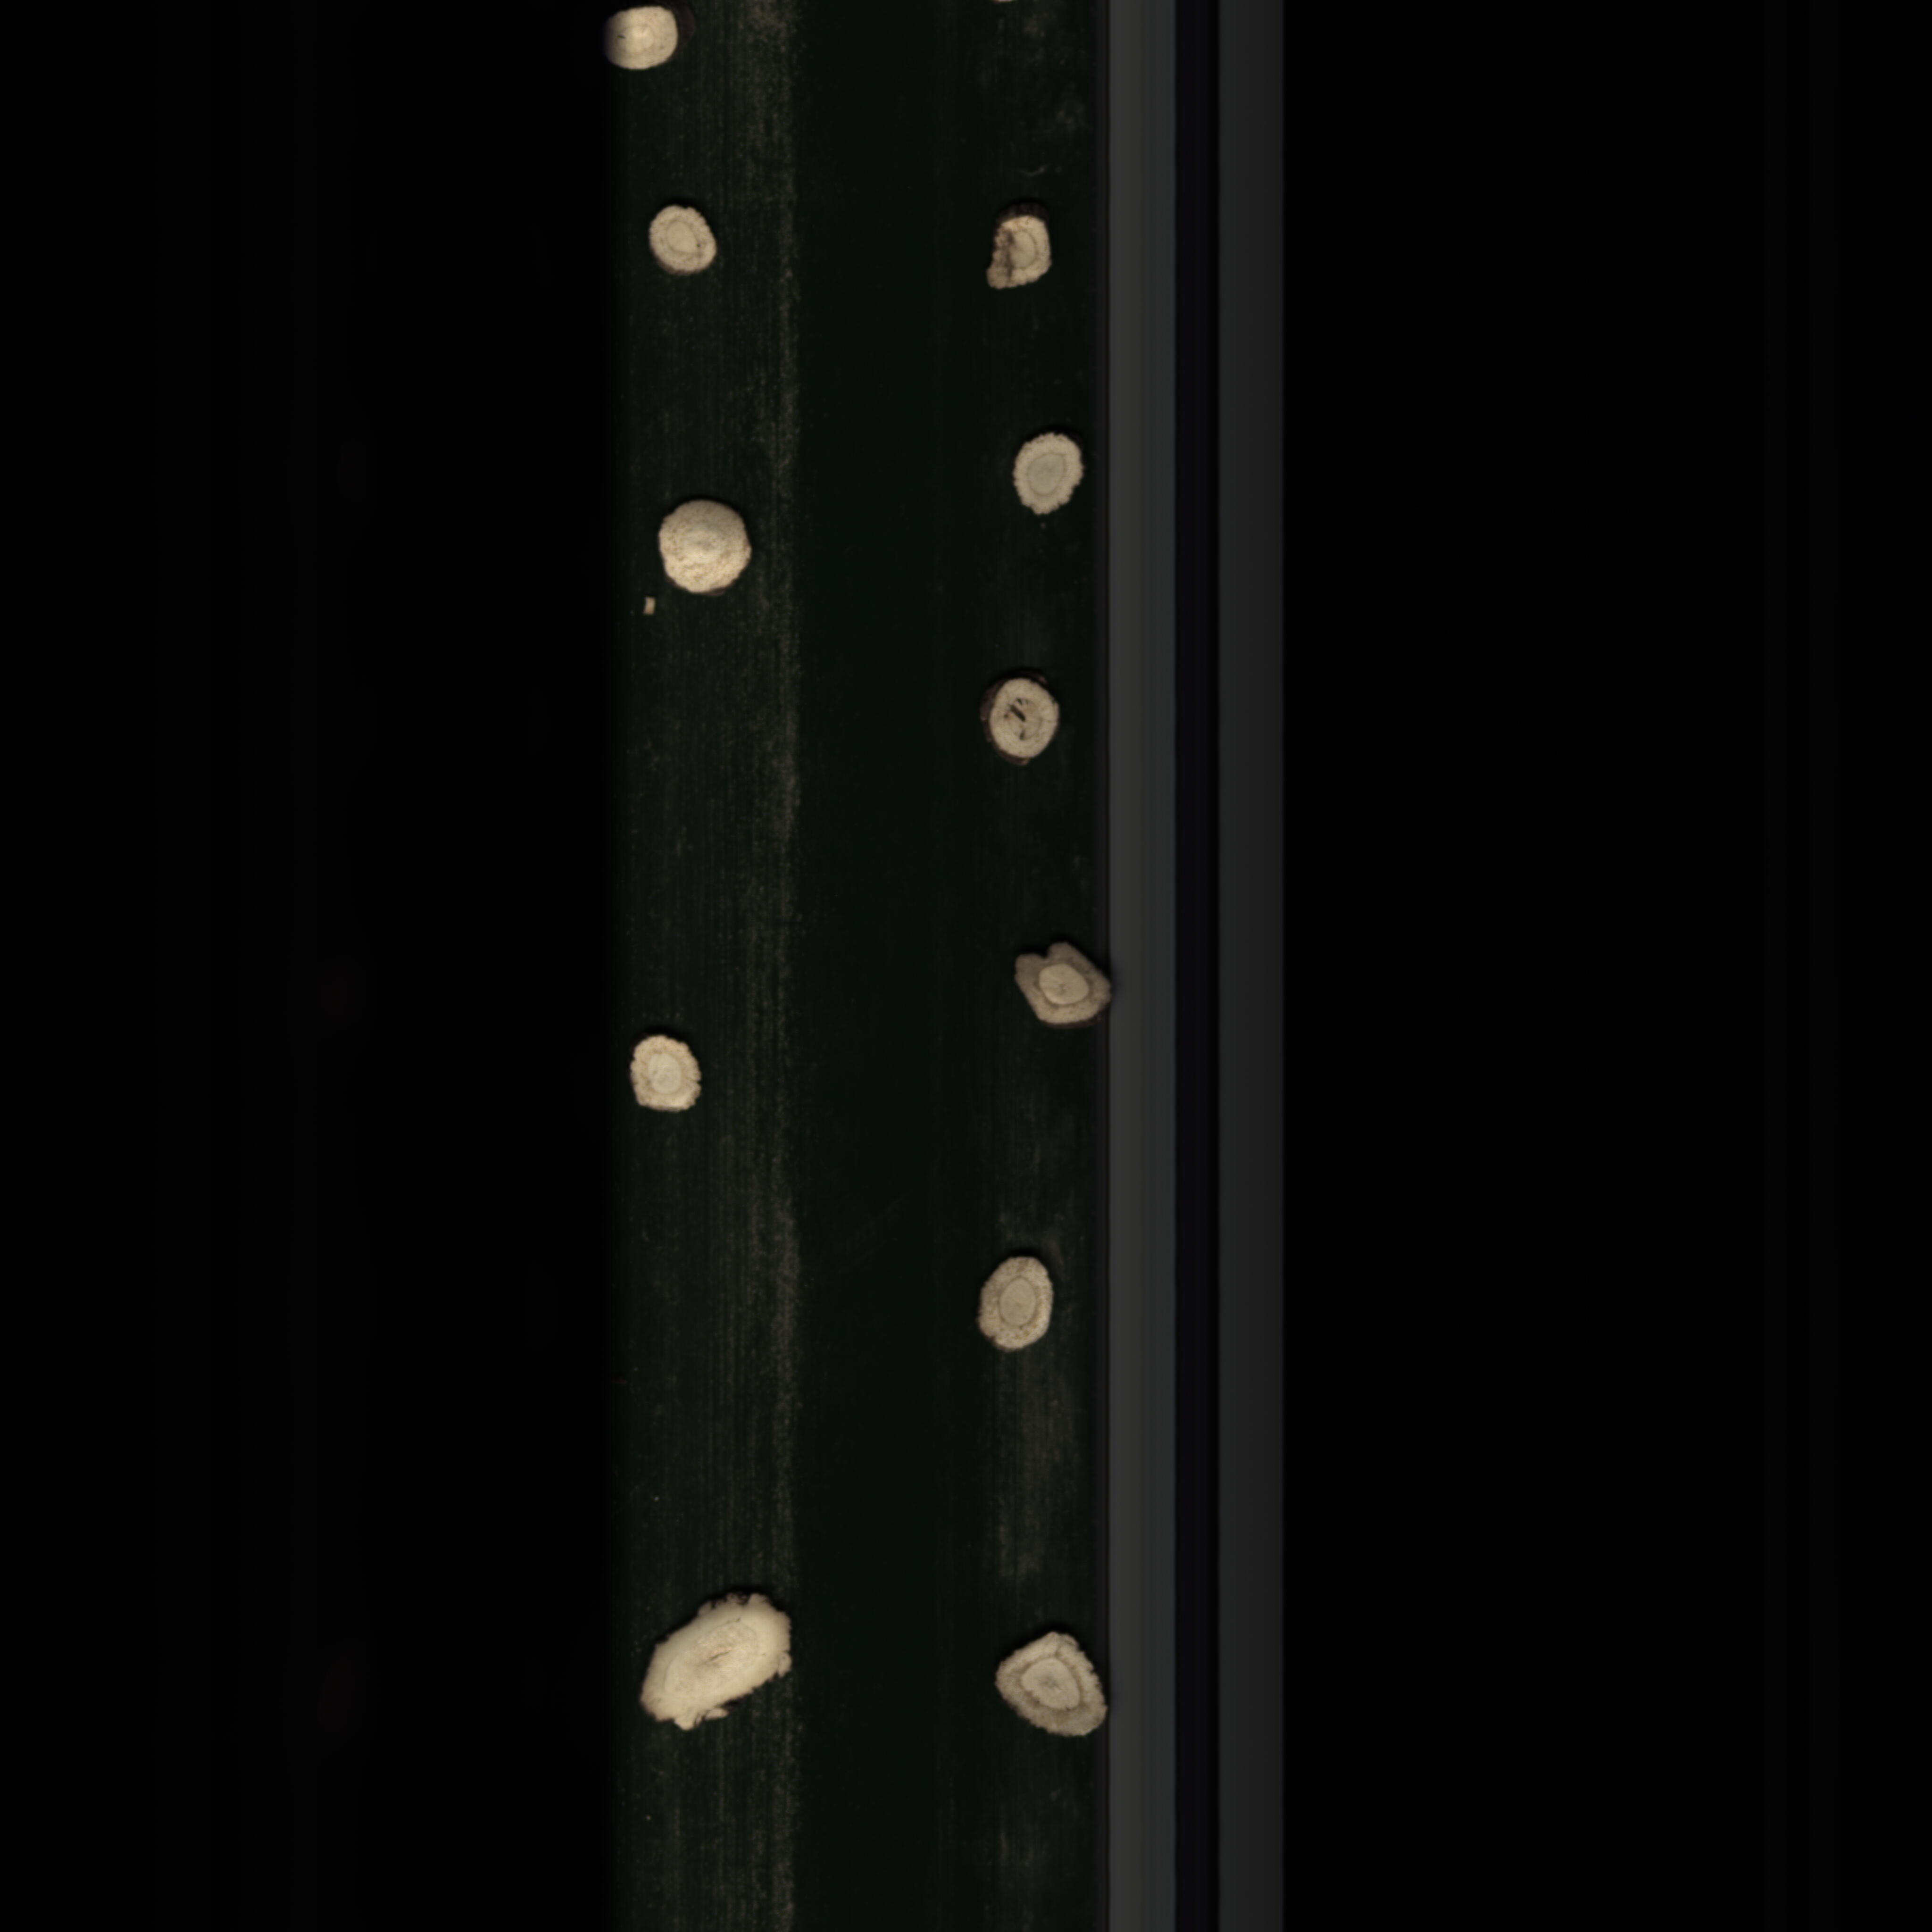debris: (980, 207, 1062, 304)
distortion: (633, 1580, 800, 1746)
hole: (970, 663, 1074, 784)
